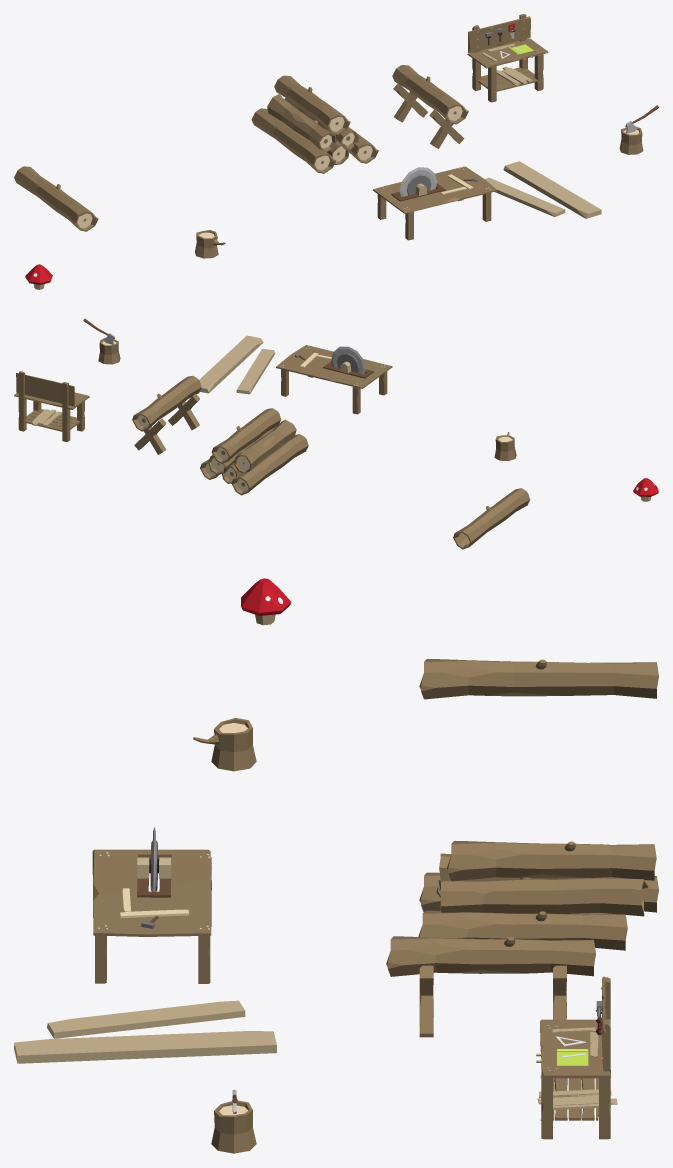
File: Troncos.fbx
The picture shows the model from 3 angles, top to bottom: view 1: azimuth 30°, elevation 25°; view 2: azimuth 150°, elevation 25°; view 3: azimuth 270°, elevation 25°; orthographic projection. The views are drawn at different scales.
Parts seen in each view (by area): view 1: Plane.002, Plane.001, Cylinder; view 2: Plane.002, Plane.001, Cylinder; view 3: Plane.002, Plane.001, Cylinder.
Boxes of the visible parts, bbox=[...] form: Plane.002: bbox=[251, 14, 658, 240]; Plane.001: bbox=[14, 166, 225, 258]; Cylinder: bbox=[25, 264, 52, 289]; Plane.002: bbox=[14, 318, 392, 495]; Plane.001: bbox=[453, 432, 530, 549]; Cylinder: bbox=[633, 478, 658, 501]; Plane.002: bbox=[14, 827, 658, 1153]; Plane.001: bbox=[193, 659, 658, 771]; Cylinder: bbox=[241, 578, 291, 625].
Bounding box in the file's own units: 14.66 × 1.44 × 7.12.
